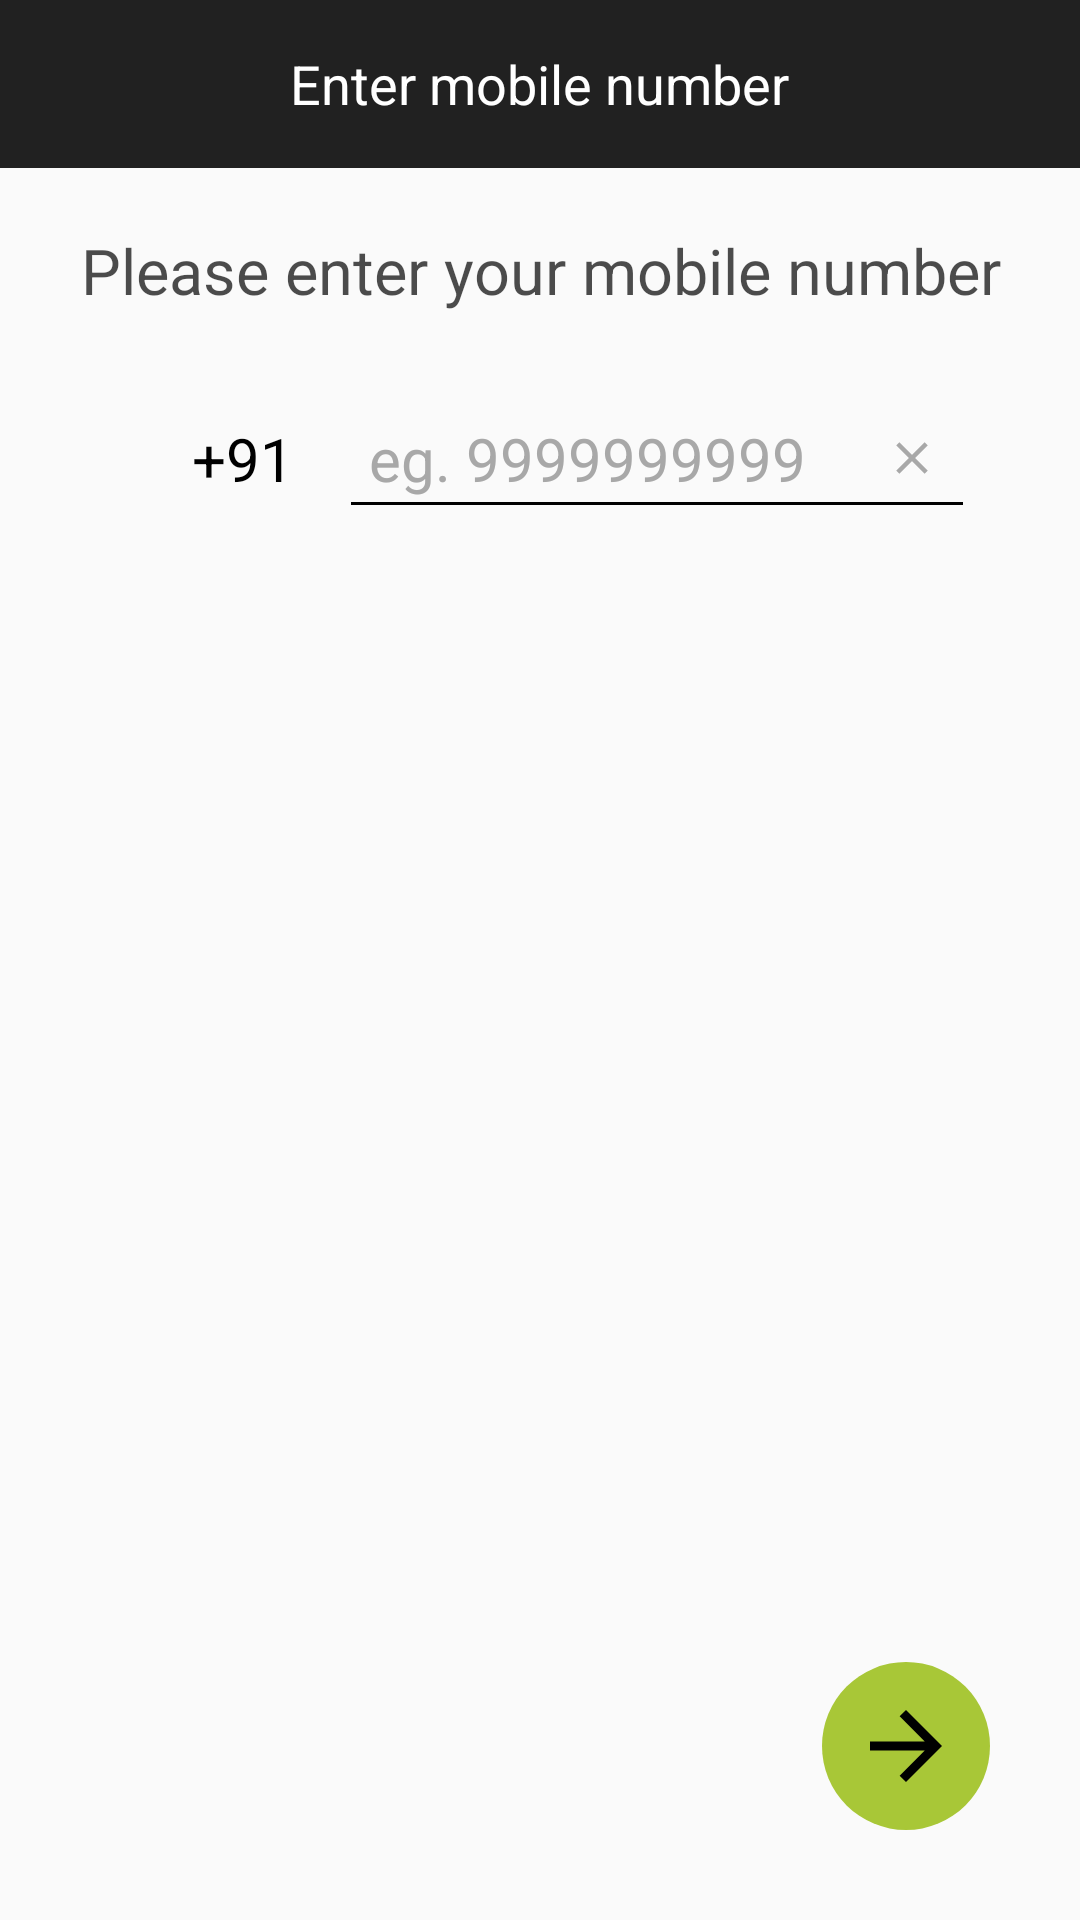

Icon click points for this 1080x1920 phone screenshot, format (x,y):
circular arrow forward: (906,1746)
clear: (912,458)
